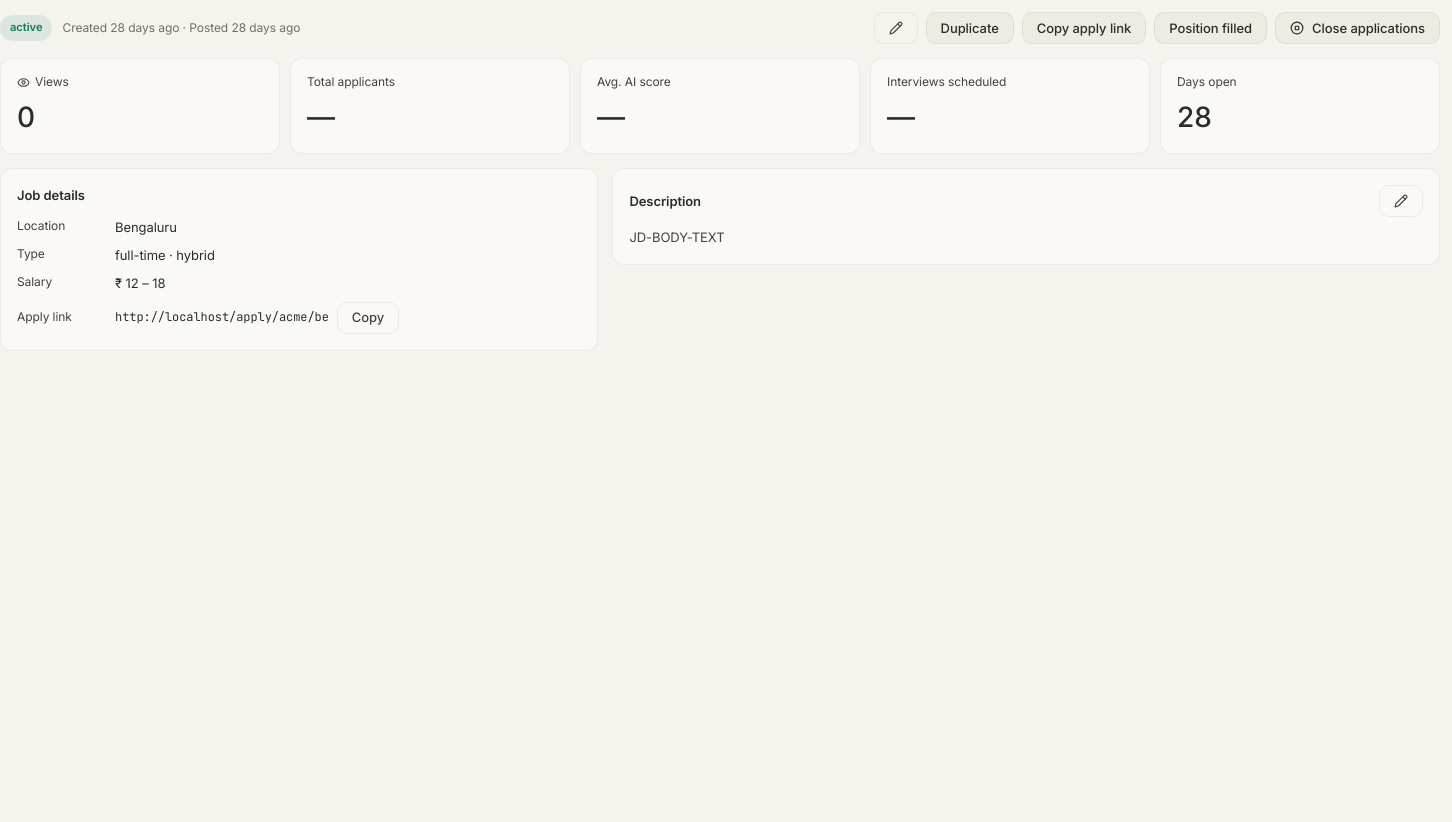
Test: PostingOverview dashboard › the Edit pencil opens the edit form
Click the button named "Edit posting" at {"x": 896, "y": 28}, box left=874, top=12, right=918, bottom=44
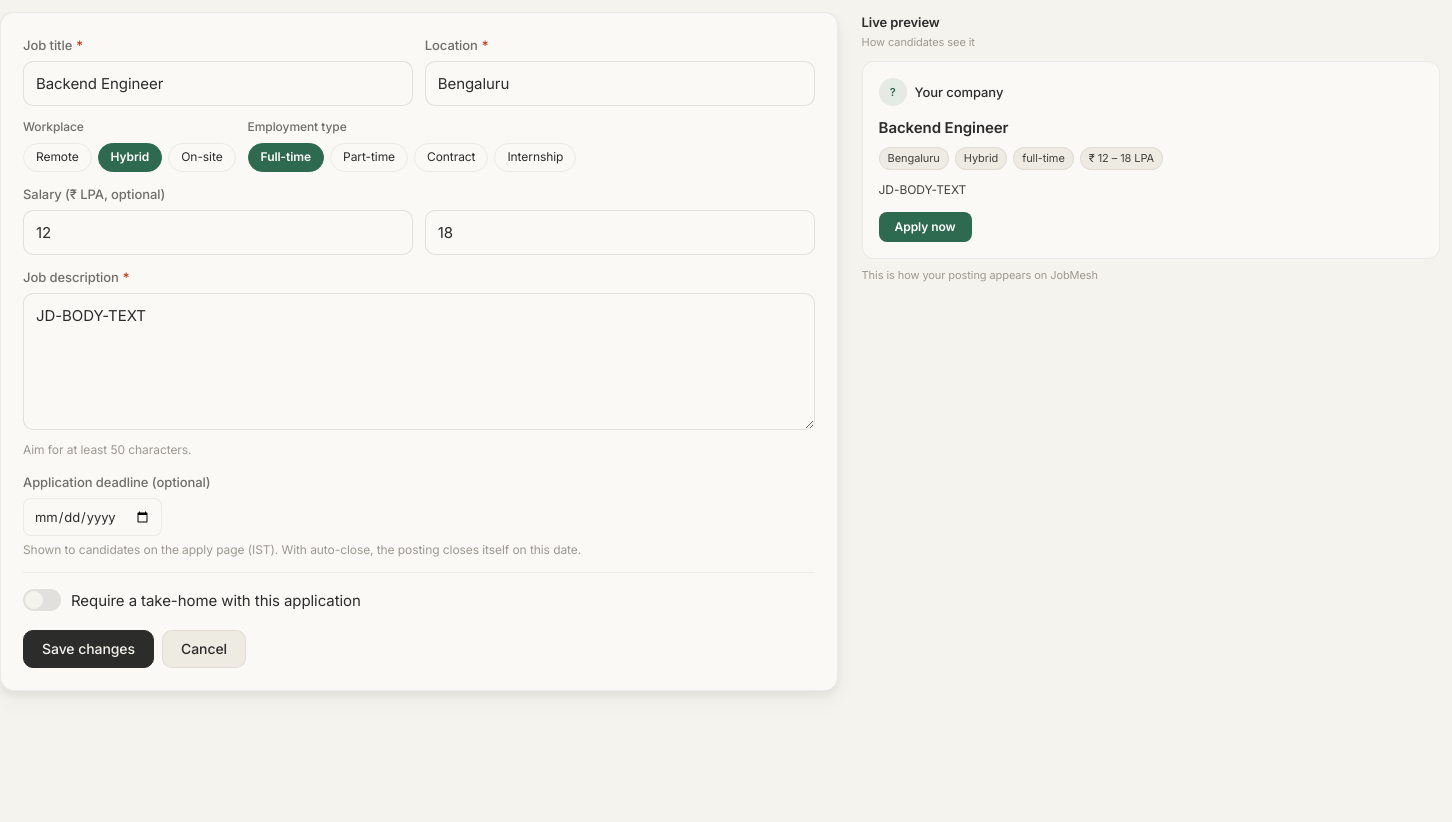
Expected: the button "Save changes" is shown, left=23, top=630, right=154, bottom=668
